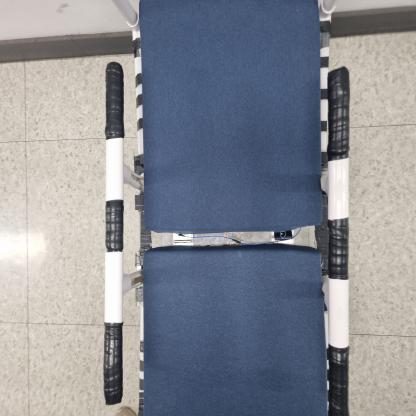np: (87, 0, 359, 416)
